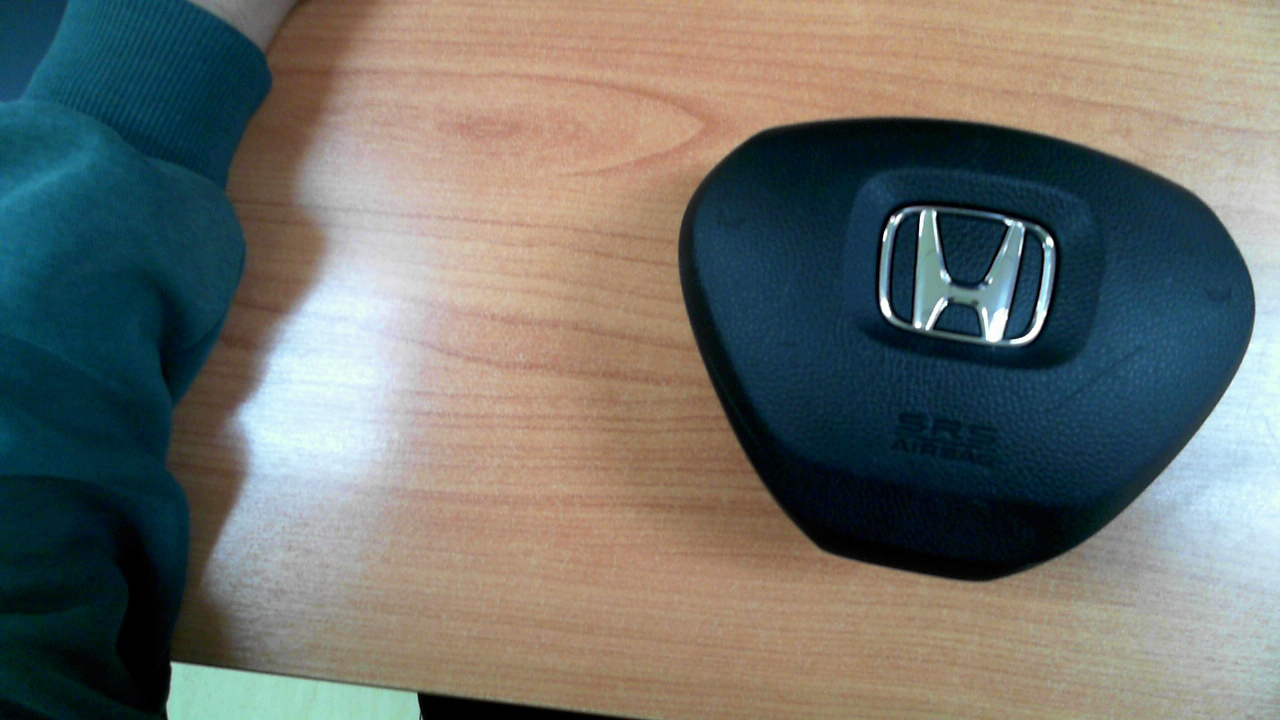Airbag: (676, 116, 1255, 583)
Honda: (878, 205, 1056, 345)
